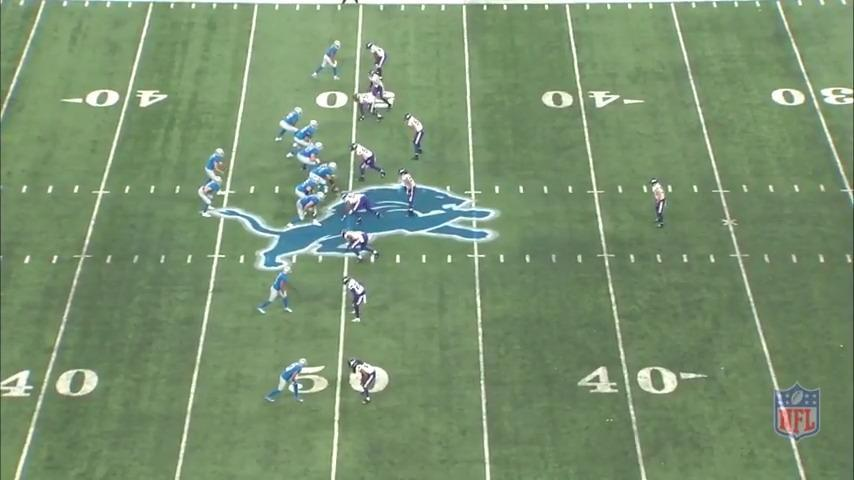defense: (351, 141, 390, 185), (347, 354, 379, 405), (340, 273, 369, 326), (340, 229, 382, 264), (341, 190, 384, 223), (648, 176, 672, 233), (396, 168, 421, 215), (406, 112, 429, 161), (365, 71, 395, 107), (356, 91, 388, 122), (366, 39, 390, 80)
oline: (287, 189, 326, 229), (286, 118, 320, 160), (292, 172, 324, 214), (312, 159, 341, 194), (300, 141, 327, 178)
qb: (202, 146, 228, 196)
skill: (256, 260, 300, 321), (264, 355, 312, 406), (310, 39, 345, 85), (275, 106, 307, 147), (197, 177, 225, 220)
